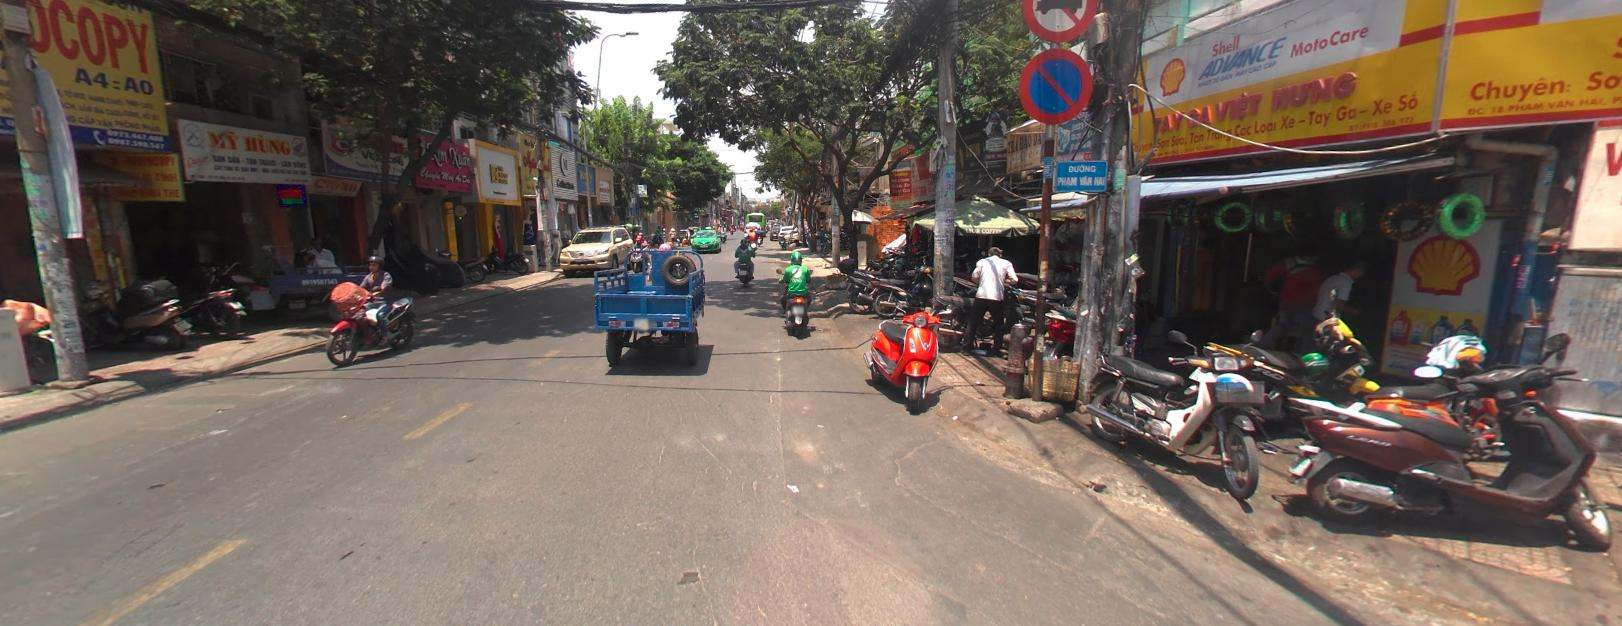Cam con lai: (1020, 1, 1097, 44)
Cam dung va do: (1013, 48, 1098, 126)
